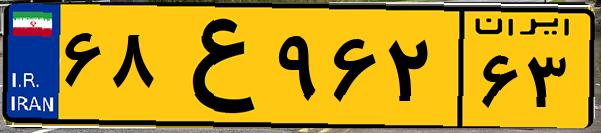2: (385, 28, 445, 110)
3: (525, 38, 570, 115)
6: (330, 28, 385, 110), (57, 26, 110, 100), (475, 38, 525, 113)
8: (110, 28, 158, 98)
9: (270, 28, 330, 110)
ع: (158, 12, 270, 120)
